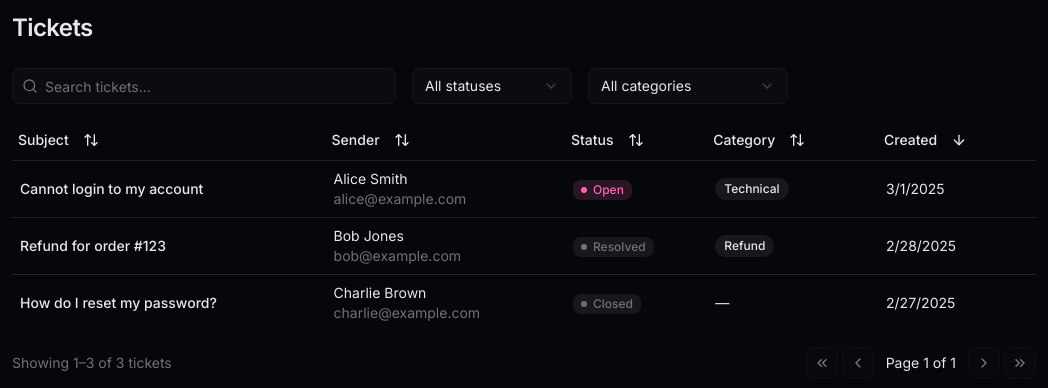
Scenario: TicketsPage › Clear filters › AC1 — visible when needed › CASE-3b0e40c8bf4e: is visible when only a category filter is active
Check: the link "Cannot login to my account" is shown, box top-left (20, 180), bottom-right (203, 196)
Click the dropdown labelled "All categories" at (688, 86), box top-left (588, 68), bottom-right (788, 104)
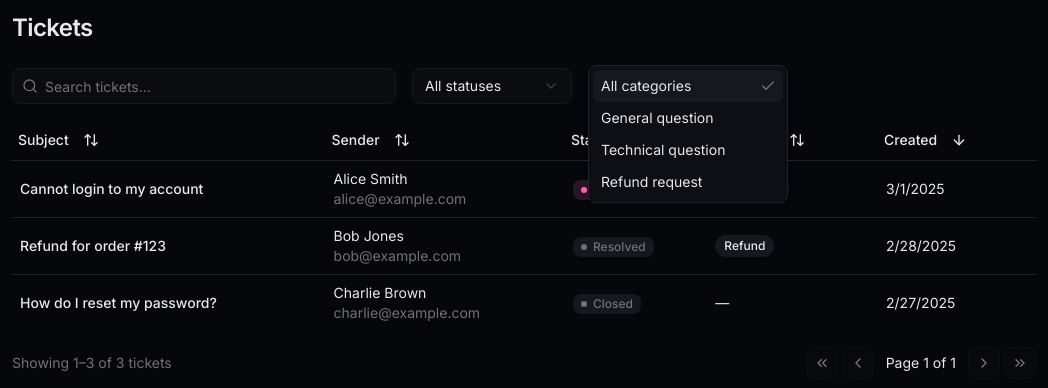
Click the option "Refund request" at (652, 182), box top-left (601, 173), bottom-right (702, 190)
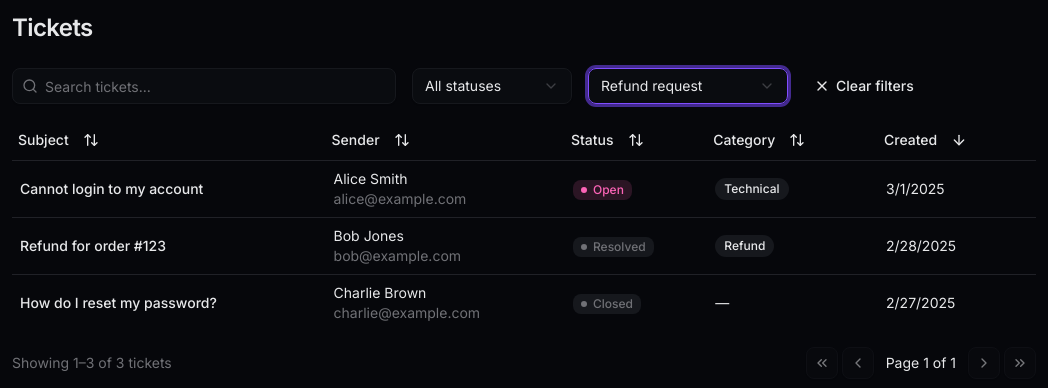
Check: the button "Clear filters" is shown, box top-left (804, 70), bottom-right (924, 102)
